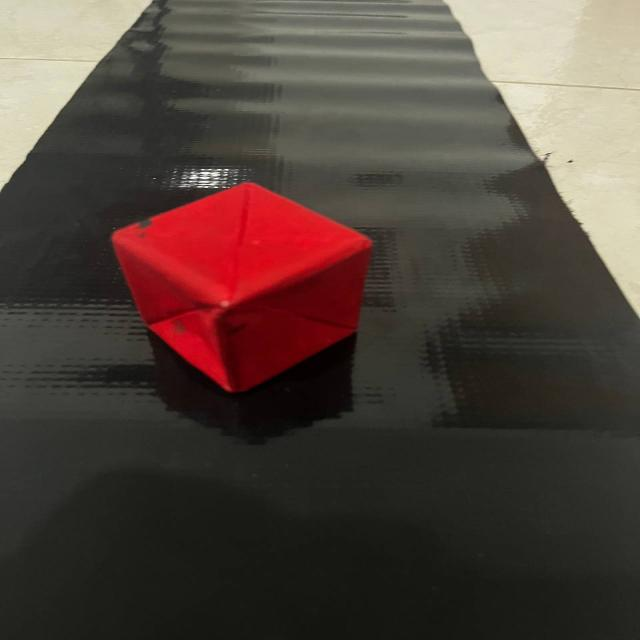Rojo: (98, 166, 390, 417)
